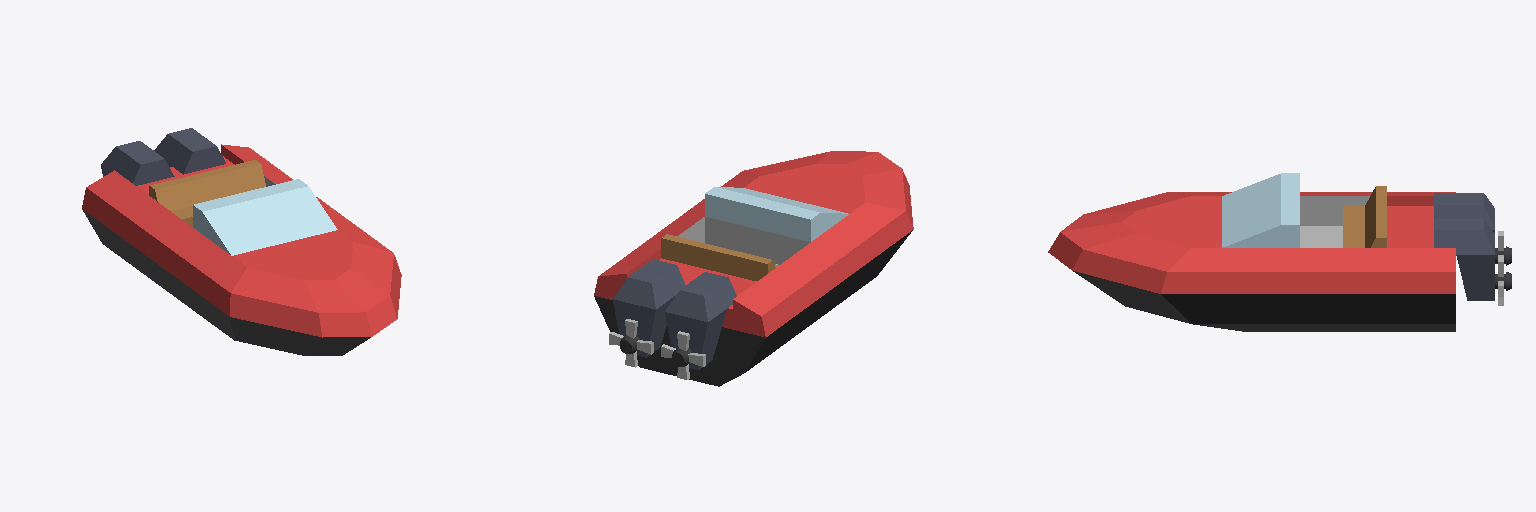
File: watercraftPack_020.obj
3 renders of one model, left to right at view 1: azimuth 30°, elevation 25°; view 2: azimuth 150°, elevation 25°; view 3: azimuth 270°, elevation 25°, orthographic.
Parts seen in each view (by area): view 1: Mesh5 Group1 Model, Mesh4 Group5 Group1 Model, Mesh3 Group4 Group1 Model; view 2: Mesh5 Group1 Model, Mesh3 Group4 Group1 Model, Mesh4 Group5 Group1 Model, Mesh1 Group2 Group1 Model, Mesh2 Group3 Group1 Model; view 3: Mesh5 Group1 Model, Mesh4 Group5 Group1 Model, Mesh3 Group4 Group1 Model.
Part boxes in pixels (x1,y1,x2,y2): Mesh5 Group1 Model: (82,144,401,355); Mesh4 Group5 Group1 Model: (154,128,225,174); Mesh3 Group4 Group1 Model: (101,141,174,185); Mesh5 Group1 Model: (594,151,913,386); Mesh3 Group4 Group1 Model: (665,272,736,369); Mesh4 Group5 Group1 Model: (613,259,685,357); Mesh1 Group2 Group1 Model: (609,319,653,367); Mesh2 Group3 Group1 Model: (661,331,705,379); Mesh5 Group1 Model: (1048,173,1455,331); Mesh4 Group5 Group1 Model: (1434,219,1511,300); Mesh3 Group4 Group1 Model: (1434,193,1511,265).
Size of the model in its own units: 1.78 by 1.12 by 4.17.